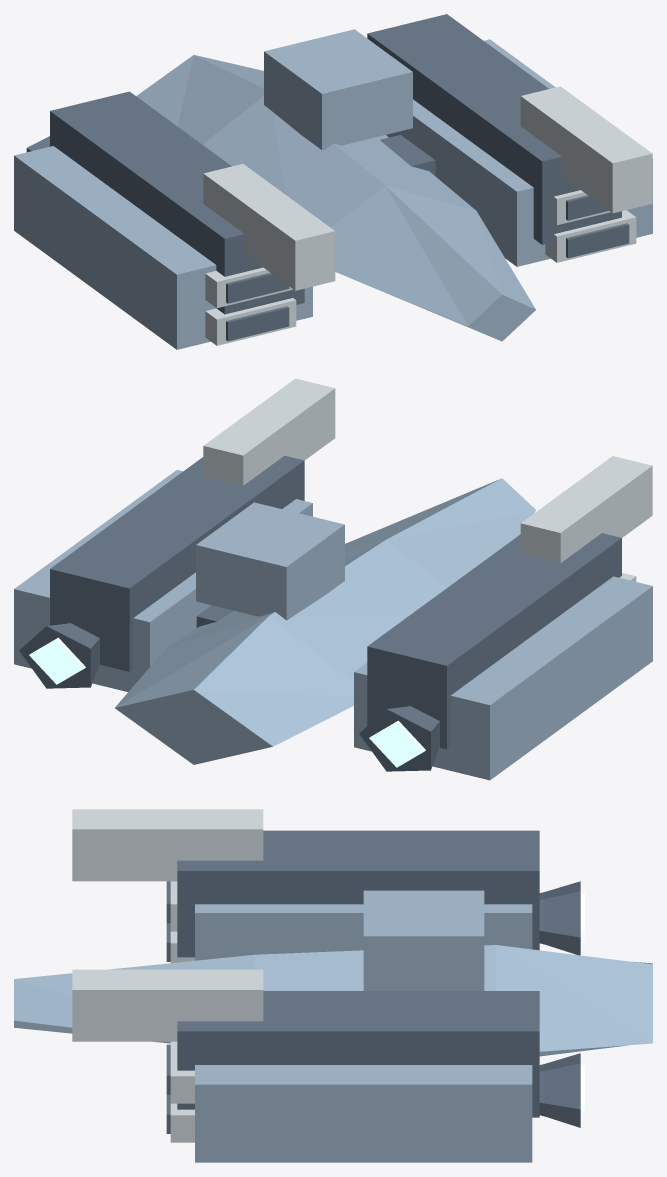
The picture shows the model from 3 angles, top to bottom: view 1: azimuth 30°, elevation 25°; view 2: azimuth 150°, elevation 25°; view 3: azimuth 270°, elevation 25°; orthographic projection. The views are drawn at different scales.
Bounding box in the file's own units: 11.94 × 4.05 × 13.4.
